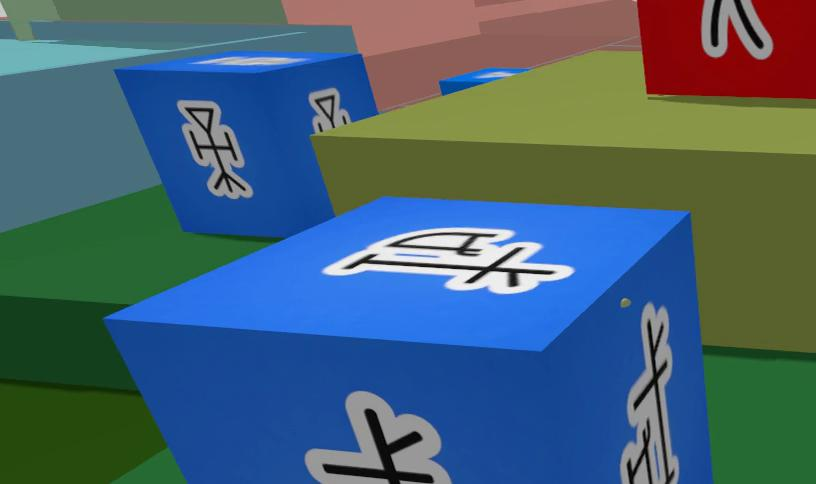KFS_FAKE: (638, 0, 816, 98), (701, 0, 773, 59)
KFS_REAL: (105, 196, 711, 484), (115, 49, 376, 236), (322, 226, 575, 294), (305, 392, 451, 484), (622, 303, 679, 484), (178, 101, 252, 198), (308, 89, 350, 132), (277, 87, 283, 91)
